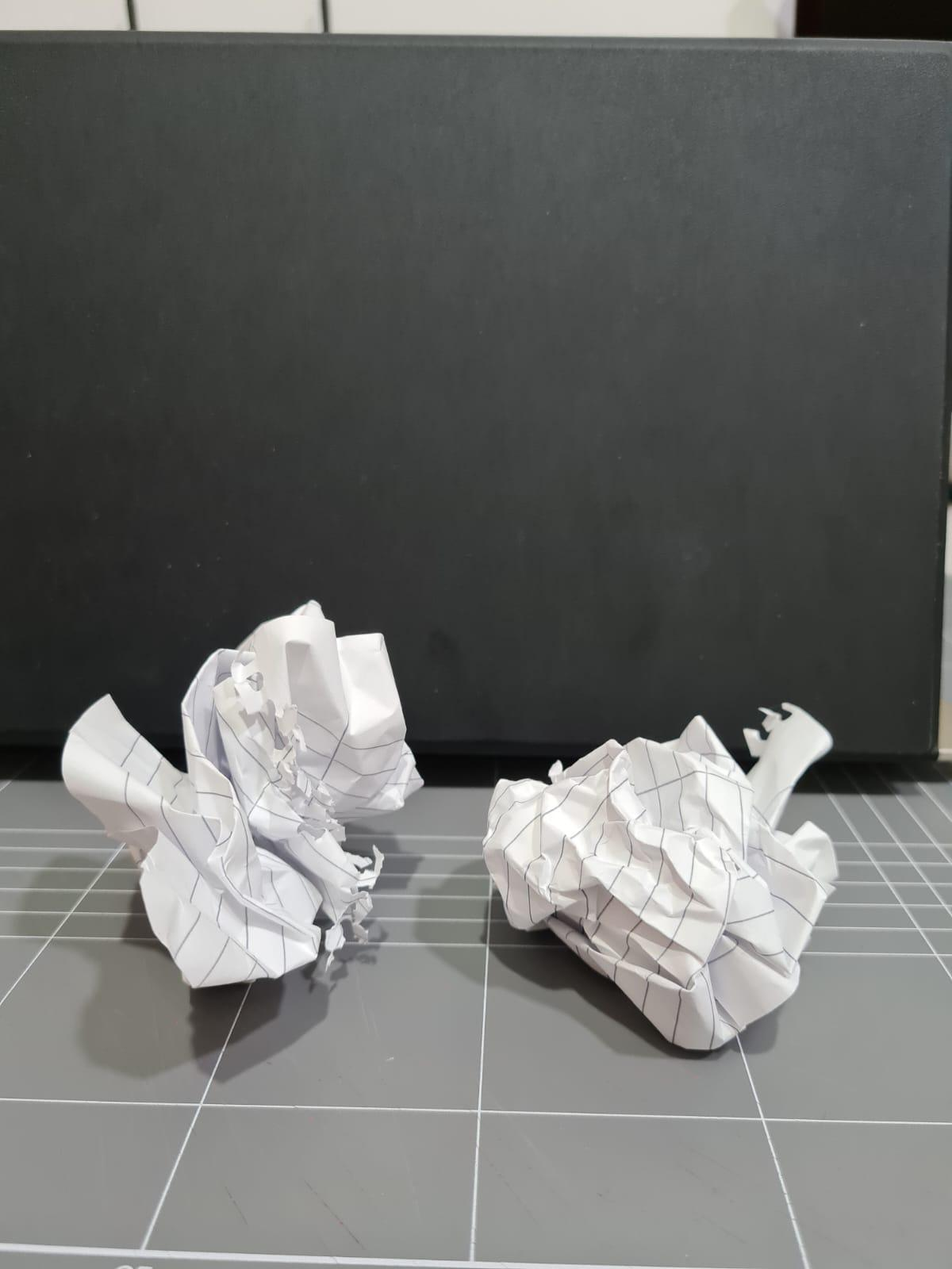paper: (482, 680, 846, 1052), (67, 611, 413, 990)
